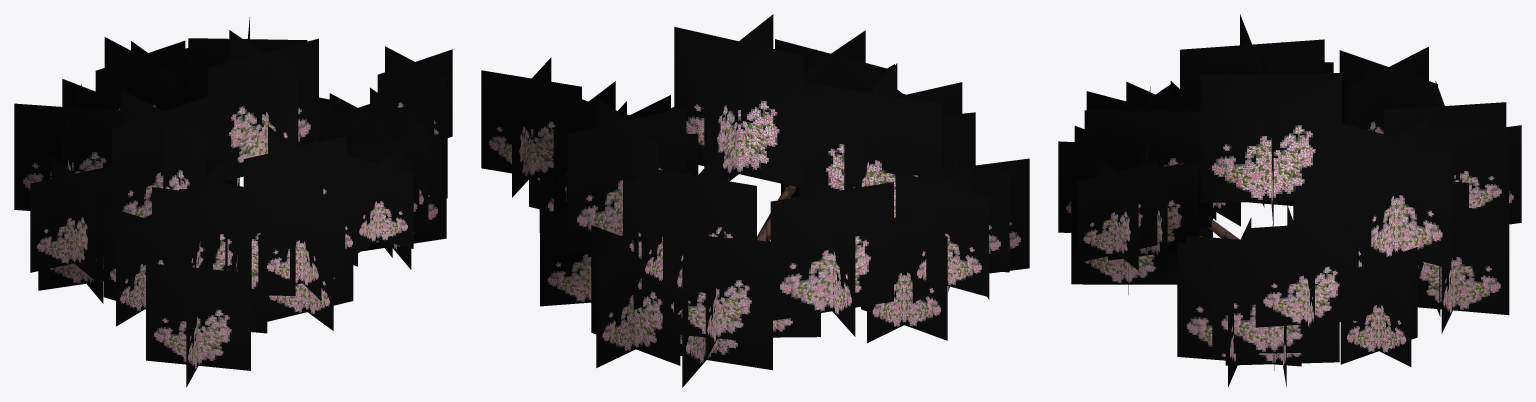
File: cherry1_lod1.fbx
3 renders of one model, left to right at view 1: azimuth 30°, elevation 25°; view 2: azimuth 150°, elevation 25°; view 3: azimuth 270°, elevation 25°, orthographic. The views are drawn at different scales.
Visible parts, largest first — view 1: cherry1_lod1; view 2: cherry1_lod1; view 3: cherry1_lod1.
Boxes of the visible parts, bbox=[...] form: cherry1_lod1: bbox=[14, 17, 452, 387]; cherry1_lod1: bbox=[481, 14, 1029, 387]; cherry1_lod1: bbox=[1058, 14, 1521, 387].
Size of the model in its own units: 15.02 by 8.39 by 12.73.
Materials: 2 (2 with a texture image).
